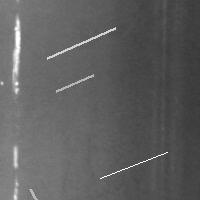scratches: (42, 23, 120, 63), (95, 147, 172, 183), (8, 14, 24, 98), (51, 70, 98, 96), (9, 144, 22, 199), (25, 184, 61, 200)
